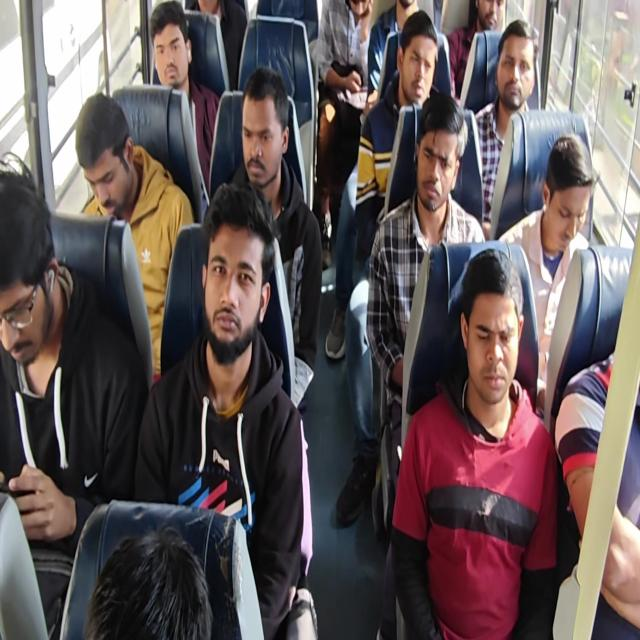person: (0, 137, 56, 406), (85, 525, 214, 640), (202, 170, 276, 365), (444, 236, 522, 396), (70, 83, 142, 212), (536, 121, 594, 260), (238, 62, 288, 189), (142, 0, 208, 84), (496, 18, 546, 112), (416, 99, 458, 207), (390, 15, 438, 100), (470, 0, 505, 35)
